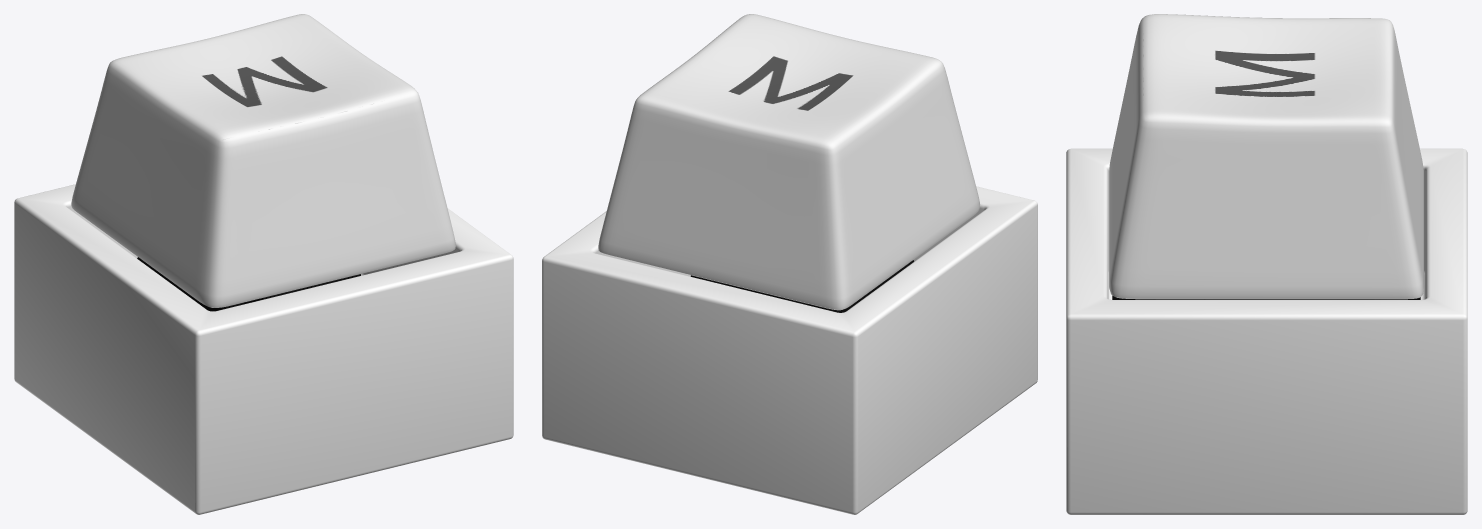
The model's file is muda-key-v1.0.glb.
3 renders of one model, left to right at view 1: azimuth 30°, elevation 25°; view 2: azimuth 150°, elevation 25°; view 3: azimuth 270°, elevation 25°, orthographic. The views are drawn at different scales.
Parts seen in each view (by area): view 1: housing_bottom_base, key_cap, housing_top; view 2: housing_bottom_base, key_cap, housing_top; view 3: housing_bottom_base, key_cap.
Part boxes in pixels (x1=…): housing_bottom_base: x1=14, y1=184, x2=513, y2=514; key_cap: x1=71, y1=14, x2=455, y2=307; housing_top: x1=137, y1=257, x2=360, y2=311; housing_bottom_base: x1=542, y1=186, x2=1037, y2=514; key_cap: x1=598, y1=14, x2=979, y2=310; housing_top: x1=690, y1=260, x2=913, y2=312; housing_bottom_base: x1=1066, y1=148, x2=1467, y2=514; key_cap: x1=1109, y1=14, x2=1423, y2=299.
Bounding box in the file's own units: 0.0661 × 0.0672 × 0.0664.
Materials: 5 (2 with a texture image).
